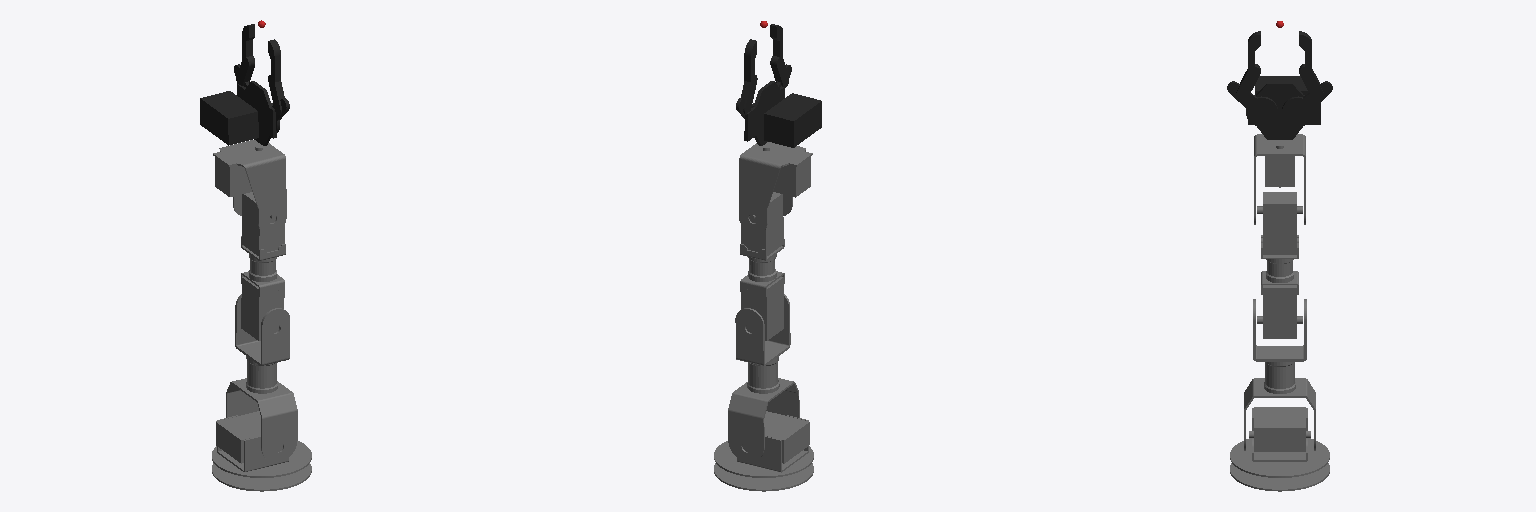
The robot description file, URDF, robot "xarm":
<?xml version="1.0"?>
<!-- created with Phobos 1.0.1 "Capricious Choutengan" -->
  <robot name="xarm">
 	<link name="world"/>

    <link name="base_link">
      <inertial>
        <origin xyz="0 0 0.01319212" rpy="0 0 0"/>
        <mass value="0.15"/>
        <inertia ixx="0.001" ixy="0" ixz="0" iyy="0.001" iyz="0" izz="0.001"/>
      </inertial>
      <visual name="base">
        <origin xyz="0 0 0" rpy="0 0 0"/>
        <geometry>
          <mesh filename="nuro_arm/assets/meshes/base.stl" scale="0.001 0.001 0.001"/>
        </geometry>
        <material name="blue"/>
      </visual>
      <collision name="base_001">
        <origin xyz="0 0 0" rpy="0 0 0"/>
        <geometry>
          <box size="0.15400229 0.1400 0.0020"/>
        </geometry>
      </collision>
      <collision name="hex-columns">
        <origin xyz="0 0 0.01703818" rpy="0 0 0"/>
        <geometry>
          <box size="0.07606218 0.0770 0.0320"/>
        </geometry>
      </collision>
      <collision name="hexplates">
        <origin xyz="0 0 0.03953818" rpy="0 0 0"/>
        <geometry>
          <cylinder radius="0.06164659" length="0.0130"/>
        </geometry>
      </collision>
    </link>

    <link name="swivel_link">
      <inertial>
        <origin xyz="0 0.00 0.0" rpy="0 0 0"/>
        <mass value="0.15"/>
        <inertia ixx="0.001" ixy="0" ixz="0" iyy="0.001" iyz="0" izz="0.001"/>
      </inertial>
      <visual name="swivel">
        <origin xyz="0 0 0" rpy="0 0 3.14159"/>
        <geometry>
          <mesh filename="nuro_arm/assets/meshes/swivel.stl" scale="0.001 0.001 0.001"/>
        </geometry>
        <material name="blue"/>
      </visual>
      <collision name="swivel-servo-holder">
        <origin xyz="0 -0.0080 0.02031954" rpy="0 0 0"/>
        <geometry>
          <box size="0.04350001 0.0400 0.02775"/>
        </geometry>
      </collision>
    </link>

    <link name="upperarm_link">
      <inertial>
        <origin xyz="0 0 0" rpy="0 0 0"/>
        <mass value="0.1"/>
        <inertia ixx="0.0002" ixy="0" ixz="0" iyy="0.0002" iyz="0" izz="0.0002"/>
      </inertial>
      <visual name="upperarm_lower">
        <origin xyz="0 0 0" rpy="0 0 0"/>
        <geometry>
          <mesh filename="nuro_arm/assets/meshes/upperarm.stl" scale="0.001 0.001 0.001"/>
        </geometry>
        <material name="blue"/>
      </visual>
      <collision name="upperarm">
        <origin xyz="0.0 0 0.05" rpy="0 0 0"/>
        <geometry>
          <box size="0.032 0.056 0.11"/>
        </geometry>
      </collision>
    </link>

    <link name="forearm_link">
      <inertial>
        <origin xyz="0 0.0 0" rpy="0 0 0"/>
        <mass value="0.04"/>
        <inertia ixx="0.0001" ixy="0" ixz="0" iyy="0.0001" iyz="0" izz="0.0001"/>
      </inertial>
      <visual name="forearm">
        <origin xyz="0 0 0" rpy="0 0 0"/>
        <geometry>
          <mesh filename="nuro_arm/assets/meshes/forearm.stl" scale="0.001 0.001 0.001"/>
        </geometry>
        <material name="blue"/>
      </visual>
      <collision name="forearm">
        <origin xyz="0 0 0.05" rpy="0 0 0"/>
        <geometry>
          <box size="0.023 0.035 0.09"/>
        </geometry>
      </collision>
    </link>

    <link name="wrist_link">
      <inertial>
        <origin xyz="0.0 0.0 0" rpy="0 0 0"/>
        <mass value="0.02"/>
        <inertia ixx="0.0001" ixy="0" ixz="0" iyy="0.0001" iyz="0" izz="0.0001"/>
      </inertial>
      <visual name="wrist_metal_part">
        <origin xyz="0 0 0" rpy="0 0 3.14159"/>
        <geometry>
          <mesh filename="nuro_arm/assets/meshes/wrist.stl" scale="0.001 0.001 0.001"/>
        </geometry>
        <material name="blue"/>
      </visual>
      <collision name="wrist">
        <origin xyz="-0.0101 0.0 0.02" rpy="0 0 3.14159"/>
        <geometry>
          <box size="0.045 0.047 0.06475"/>
        </geometry>
      </collision>
    </link>

    <link name="hand_link">
      <inertial>
        <origin xyz="0.0 0.0 0" rpy="0 0 0"/>
        <mass value="0.02"/>
        <inertia ixx="0.0001" ixy="0" ixz="0" iyy="0.0001" iyz="0" izz="0.0001"/>
      </inertial>
      <visual name="hand">
        <origin xyz="0 0 0" rpy="0 0 3.14159"/>
        <geometry>
          <mesh filename="nuro_arm/assets/meshes/hand.stl" scale="0.001 0.001 0.001"/>
        </geometry>
        <material name="black"/>
      </visual>
      <collision name="hand">
        <origin xyz="0.0 0 0.025" rpy="0 1.5708 0"/>
        <geometry>
          <cylinder radius="0.025" length="0.00451872"/>
        </geometry>
      </collision>
    </link>

    <link name="left_finger_base_link">
      <inertial>
        <origin xyz="0 0 0" rpy="0 0 0"/>
        <mass value="0.1"/>
        <inertia ixx="0.0001" ixy="0" ixz="0" iyy="0.0001" iyz="0" izz="0.0001"/>
      </inertial>
      <visual name="left_finger_base">
        <origin xyz="0 0 0" rpy="0 0 0"/>
        <geometry>
          <mesh filename="nuro_arm/assets/meshes/finger_base.stl" scale="0.001 0.001 0.001"/>
        </geometry>
        <material name="black"/>
      </visual>
      <collision name="left_finger_base">
        <origin xyz="0 0 0.011125001" rpy="0 0 0"/>
        <geometry>
          <box size="0.003 0.01 0.0375"/>
        </geometry>
      </collision>
    </link>

    <link name="right_finger_base_link">
      <inertial>
        <origin xyz="0 0 0" rpy="0 0 0"/>
        <mass value="0.1"/>
        <inertia ixx="0.0001" ixy="0" ixz="0" iyy="0.0001" iyz="0" izz="0.0001"/>
      </inertial>
      <visual name="right_finger_base">
        <origin xyz="0 0 0" rpy="0 0 0"/>
        <geometry>
          <mesh filename="nuro_arm/assets/meshes/finger_base.stl" scale="0.001 0.001 0.001"/>
        </geometry>
        <material name="black"/>
      </visual>
      <collision name="right-finger-lower">
        <origin xyz="0 0 0.011125001" rpy="0 0 0"/>
        <geometry>
          <box size="0.003 0.01 0.0375"/>
        </geometry>
      </collision>
    </link>

    <link name="left_finger_tip_link">
      <inertial>
        <origin xyz="0 0 0" rpy="0 0 0"/>
        <mass value="0.01"/>
        <inertia ixx="0.0001" ixy="0" ixz="0" iyy="0.0001" iyz="0" izz="0.0001"/>
      </inertial>
      <visual name="left_finger_tip">
        <origin xyz="0 0 0" rpy="0 0 0"/>
        <geometry>
          <mesh filename="nuro_arm/assets/meshes/finger_tip.stl" scale="0.001 0.001 0.001"/>
        </geometry>
        <material name="black"/>
      </visual>
      <collision name="left_finger_tip_collision">
        <origin xyz="0.0 -0.01 0.045" rpy="0 0 0"/>
        <geometry>
          <box size="0.008 0.008 0.012"/>
        </geometry>
      </collision>
	  <contact>
        <lateral_friction value="1.0"/>
        <spinning_friction value="1.0"/>
      </contact>
    </link>

    <link name="right_finger_tip_link">
      <inertial>
        <origin xyz="0 0 0" rpy="0 0 0"/>
        <mass value="0.01"/>
        <inertia ixx="0.0001" ixy="0" ixz="0" iyy="0.0001" iyz="0" izz="0.0001"/>
      </inertial>
      <visual name="right_finger_tip">
        <origin xyz="0 0.0 0.0" rpy="0 0 3.14159"/>
        <geometry>
          <mesh filename="nuro_arm/assets/meshes/finger_tip.stl" scale="0.001 0.001 0.001"/>
        </geometry>
        <material name="black"/>
      </visual>
      <collision name="right_finger_tip_collision">
        <origin xyz="0.0 0.01 0.045" rpy="0 0 0"/>
        <geometry>
          <box size="0.008 0.008 0.012"/>
        </geometry>
      </collision>
	  <contact>
        <lateral_friction value="1.0"/>
        <spinning_friction value="1.0"/>
      </contact>
    </link>

    <link name="dummy_link">
      <inertial>
        <origin xyz="0 0 0" rpy="0 0 0"/>
        <mass value="0.01"/>
        <inertia ixx="0.0001" ixy="0" ixz="0" iyy="0.0001" iyz="0" izz="0.0001"/>
      </inertial>
    </link>

    <link name="virtual_grasp_link">
        <visual>
              <origin rpy="0 0 0.0" xyz="0 0.0 0.0"/>
              <geometry>
                <sphere radius="0.003"/>
              </geometry>
              <material name="red">
                <color rgba="0.8 0.2 0.2 0.5"/>
              </material>
        </visual>
        <inertial>
            <mass value="0.001"/>
            <inertia ixx="0.00001" ixy="0" ixz="0" iyy="0.00001" iyz="0" izz="0.00001"/>
        </inertial>
    </link>

    <joint name="world_joint" type="fixed">
        <parent link="world"/>
        <child link="base_link"/>
        <origin rpy="0.0 0.0 0.0" xyz="0.0 0.0 0.0"/>
    </joint>

    <joint name="base_joint" type="revolute">
      <origin xyz="0 0 0.047" rpy="0 0 0"/>
      <parent link="base_link"/>
      <child link="swivel_link"/>
      <axis xyz="0 0 1.0"/>
      <limit lower="-2.0" upper="2.0" effort="0" velocity="2.0"/>
      <dynamics friction="0" damping="0.5"/>
    </joint>

    <joint name="shoulder_joint" type="revolute">
      <origin xyz="0 0 0.0177" rpy="0 0 0"/>
      <parent link="swivel_link"/>
      <child link="upperarm_link"/>
      <axis xyz="0 1 0"/>
      <limit lower="-1.58" upper="1.58" effort="0" velocity="2.0"/>
      <dynamics friction="0" damping="0.5"/>
    </joint>

    <joint name="elbow_joint" type="revolute">
      <origin xyz="0 0 0.0988" rpy="0 0 0"/>
      <parent link="upperarm_link"/>
      <child link="forearm_link"/>
      <axis xyz="0 1 0"/>
      <limit lower="-2.0" upper="2.0" velocity="2.0"/>
      <dynamics friction="0" damping="0.5"/>
    </joint>

    <joint name="wrist_joint" type="revolute">
      <origin xyz="0 0 0.0947" rpy="0 0 0"/>
      <parent link="forearm_link"/>
      <child link="wrist_link"/>
      <axis xyz="0 1 0"/>
      <limit lower="-1.8" upper="2.0" velocity="2.0"/>
      <dynamics friction="0" damping="0.5"/>
    </joint>

    <joint name="wrist_rotation_joint" type="revolute">
      <origin xyz="0 0 0.0588" rpy="0 0 0"/>
      <parent link="wrist_link"/>
      <child link="hand_link"/>
      <axis xyz="0 0 1"/>
      <limit lower="-2.0" upper="2.0" velocity="2.0"/>
      <dynamics friction="0" damping="0.5"/>
    </joint>

    <joint name="left_knuckle_joint" type="revolute">
        <origin xyz="0 0.014 0.025" rpy="0 0 0"/>
      <parent link="hand_link"/>
      <child link="left_finger_base_link"/>
      <axis xyz="-1 0 0"/>
      <limit effort="1000" lower="0.05" upper="1.6" velocity="2.0"/>
      <dynamics friction="0" damping="0.5"/>
    </joint>

    <joint name="right_knuckle_joint" type="revolute">
      <origin xyz="0 -0.014 0.025" rpy="0 0 0"/>
      <parent link="hand_link"/>
      <child link="right_finger_base_link"/>
      <axis xyz="1 0 0"/>
      <limit effort="1000" lower="0.05" upper="1.6" velocity="2.0"/>
      <dynamics friction="0" damping="0.5"/>
    </joint>

    <joint name="dummy_z_joint" type="prismatic">
        <parent link="hand_link"/>
        <child link="dummy_link"/>
        <origin rpy="0.0 0.0 0.0" xyz="0.0 0.0 0.0"/>
        <axis xyz="0 0 1"/>
        <limit effort="1000" lower="0.025" upper="0.055" velocity="2.0"/>
    </joint>

    <joint name="dummy_y_joint" type="prismatic">
        <parent link="dummy_link"/>
        <child link="left_finger_tip_link"/>
        <origin rpy="0.0 0.0 0.0" xyz="0.0 0.0 0.0"/>
        <axis xyz="0 1 0"/>
        <limit effort="1000" lower="0.0145" upper="0.0445" velocity="2.0"/>
    </joint>

    <joint name="finger_separation_joint" type="prismatic">
        <parent link="left_finger_tip_link"/>
        <child link="right_finger_tip_link"/>
        <origin rpy="0.0 0.0 0.0" xyz="0.0 0.00 0.0"/>
        <axis xyz="0 -1 0"/>
        <limit effort="1000" lower="0.029" upper="0.089" velocity="2.0"/>
    </joint>

    <joint name="virtual_grasp_joint" type="fixed">
        <parent link="hand_link"/>
        <child link="virtual_grasp_link"/>
        <origin rpy="0.0 0.0 0.0" xyz="0.0 0.0 0.1"/>
    </joint>

    <material name="black">
      <color rgba="0.2 0.2 0.2 0.9"/>
    </material>

    <material name="blue">
      <color rgba="0.5 0.5 0.5 1.0"/>
    </material>

    <material name="pink">
        <color rgba="0.8 0.3 0.6 1.0"/>
    </material>
  </robot>

--- What the picture shows (computed from the rendered views, not written in the file) ---
Views: 3 orthographic renders of the robot side by side, from view 1: azimuth 30°, elevation 25°; view 2: azimuth 150°, elevation 25°; view 3: azimuth 270°, elevation 25°.
Model xarm with 13 links and 12 joints (7 revolute, 3 prismatic, 2 fixed), rooted at world, posed joints at zero except 5 at the middle of their limits (left_knuckle_joint = 0.825, right_knuckle_joint = 0.825, dummy_z_joint = 0.04, dummy_y_joint = 0.0295, finger_separation_joint = 0.059).
Links seen in each view (by area): view 1: upperarm_link, swivel_link, wrist_link, forearm_link, hand_link, right_finger_tip_link, left_finger_tip_link; view 2: upperarm_link, swivel_link, wrist_link, forearm_link, hand_link, left_finger_tip_link, right_finger_tip_link; view 3: swivel_link, forearm_link, upperarm_link, wrist_link, hand_link, right_finger_base_link, left_finger_base_link, left_finger_tip_link, right_finger_tip_link.
Link boxes in pixels (x1,y1,x2,y2): upperarm_link: (226,294,297,462); swivel_link: (212,411,311,491); wrist_link: (213,140,286,234); forearm_link: (241,192,285,340); hand_link: (200,81,276,145); right_finger_tip_link: (268,39,284,114); left_finger_tip_link: (236,24,254,85); upperarm_link: (728,294,799,462); swivel_link: (714,411,813,491); wrist_link: (739,142,812,234); forearm_link: (740,192,784,340); hand_link: (744,81,821,147); left_finger_tip_link: (741,39,757,114); right_finger_tip_link: (770,24,788,86); swivel_link: (1230,407,1329,491); forearm_link: (1257,192,1302,338); upperarm_link: (1244,299,1315,450); wrist_link: (1254,134,1305,224); hand_link: (1248,76,1320,139); right_finger_base_link: (1227,81,1277,126); left_finger_base_link: (1282,81,1332,126); left_finger_tip_link: (1299,31,1323,101); right_finger_tip_link: (1236,31,1260,101).
Bounding box of the posed robot: 0.0802 × 0.0821 × 0.386 m (x, y, z).
Meshes: 8 distinct files referenced, 9 mesh visuals loaded (7 binary STL); not drawn: 1 (reference not matched to a file when rendering).